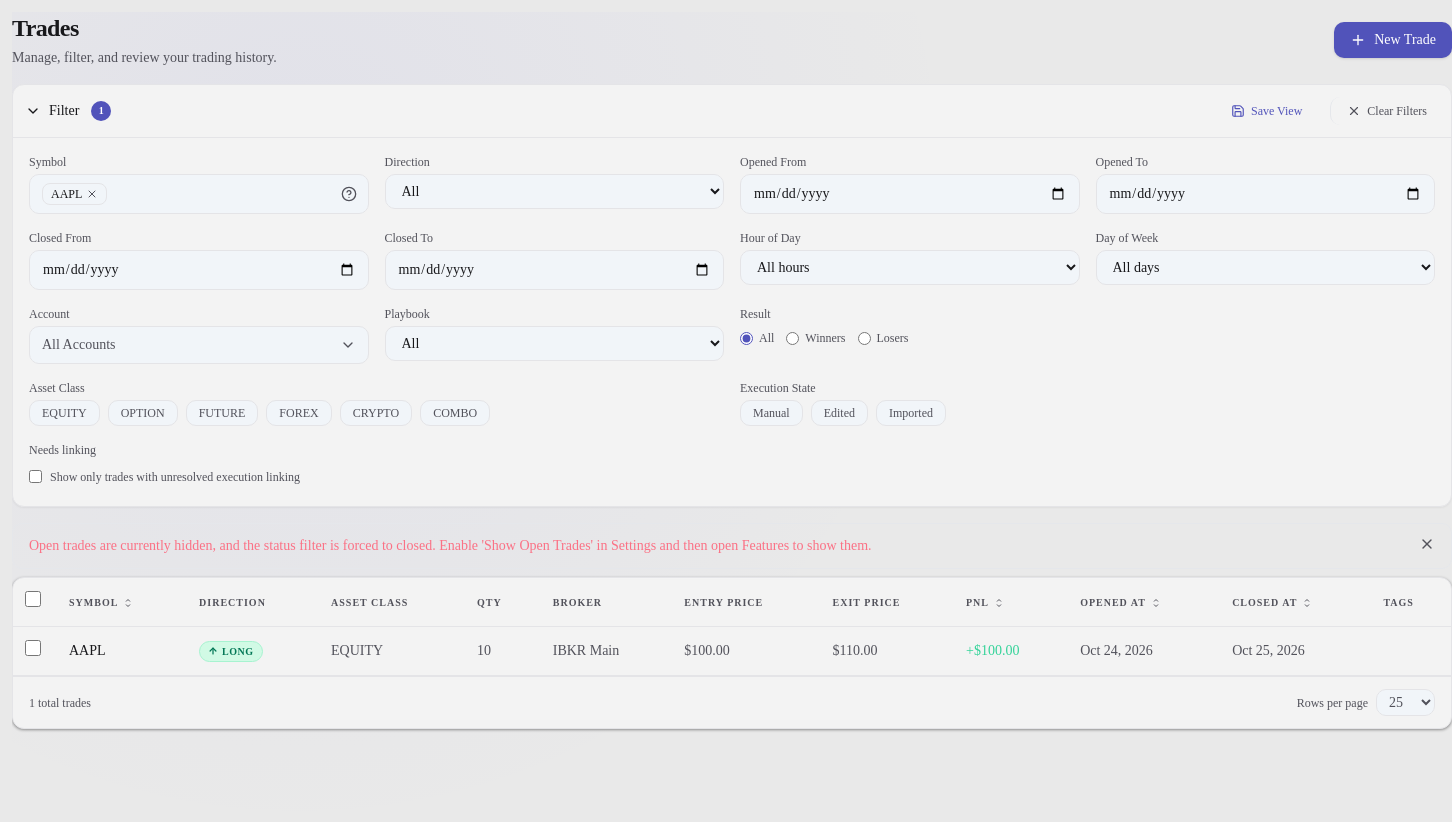
TradesPageClient show_open_trades behavior › explains and removes a stale open status while preserving the other URL filters
Expected: the text "Open trades are currently hidden, and the status filter is forced to closed" is shown, [29,538,872,553]
Click the button named "Dismiss open-trades info banner" at [1427, 544], box [1419,536,1435,552]
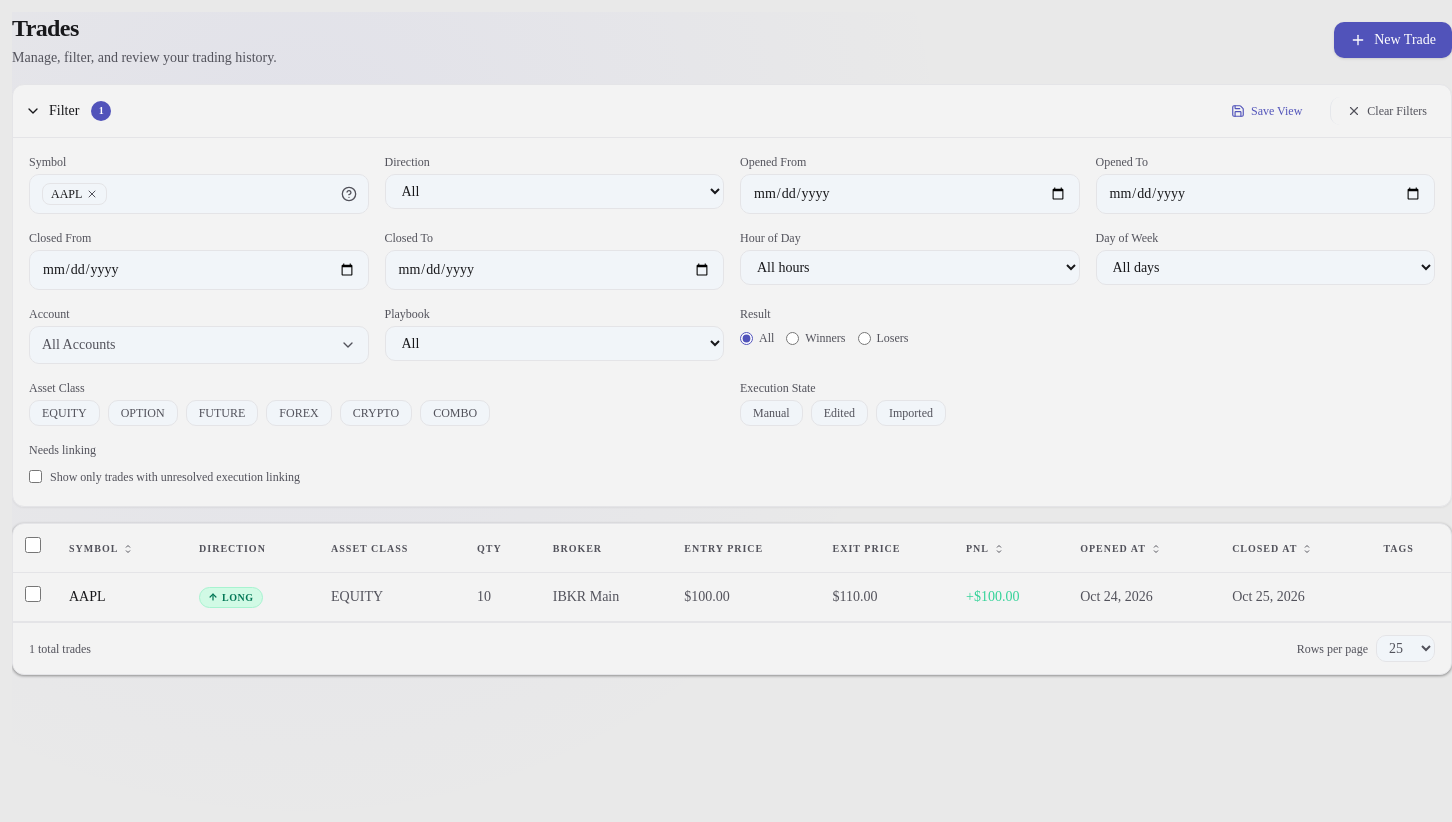
Expected: the text "Open trades are currently hidden" is gone
